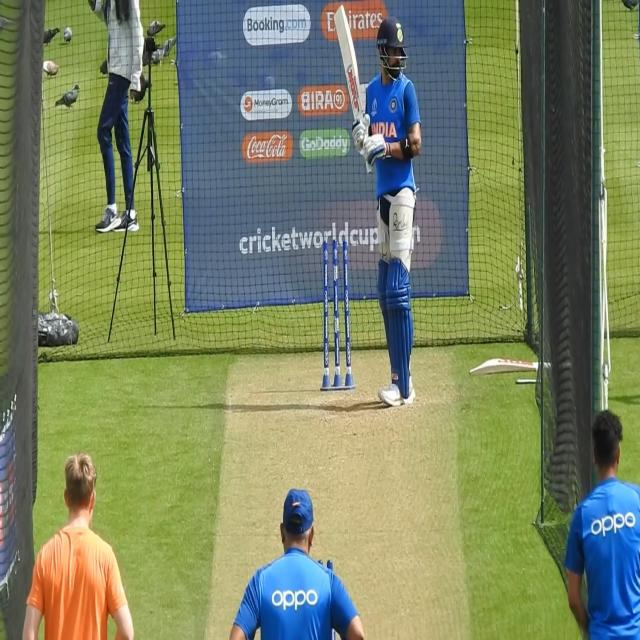stump: (320, 234, 356, 392)
